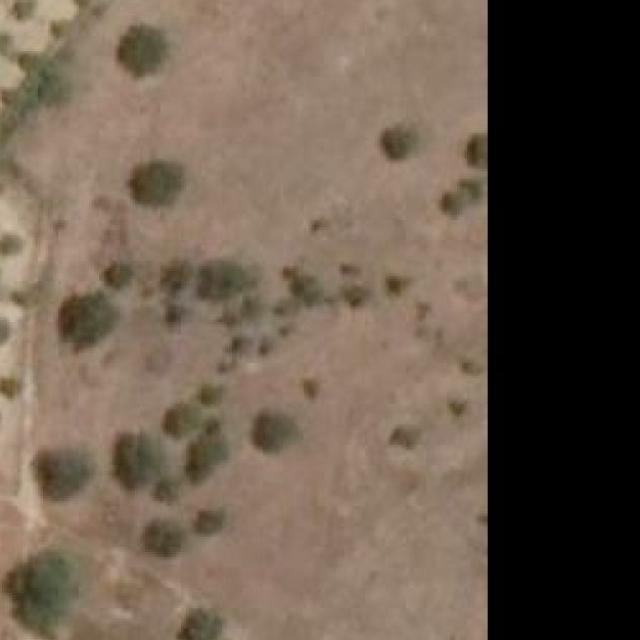Tree: (22, 557, 74, 632), (43, 450, 89, 494), (64, 296, 108, 341), (143, 514, 189, 555), (126, 434, 166, 478), (125, 26, 164, 64), (202, 261, 246, 294), (444, 179, 480, 213), (143, 167, 179, 200), (382, 125, 422, 153), (388, 422, 424, 453), (258, 416, 294, 445), (46, 64, 72, 102), (340, 281, 373, 310), (465, 133, 489, 172), (186, 611, 217, 640), (193, 506, 222, 537), (193, 438, 222, 468), (382, 271, 411, 299), (169, 407, 199, 432), (158, 478, 182, 499), (169, 264, 189, 289), (301, 376, 319, 400), (0, 235, 20, 253), (2, 375, 17, 394), (22, 54, 38, 70), (51, 20, 67, 36), (112, 266, 128, 281), (17, 0, 32, 15)
